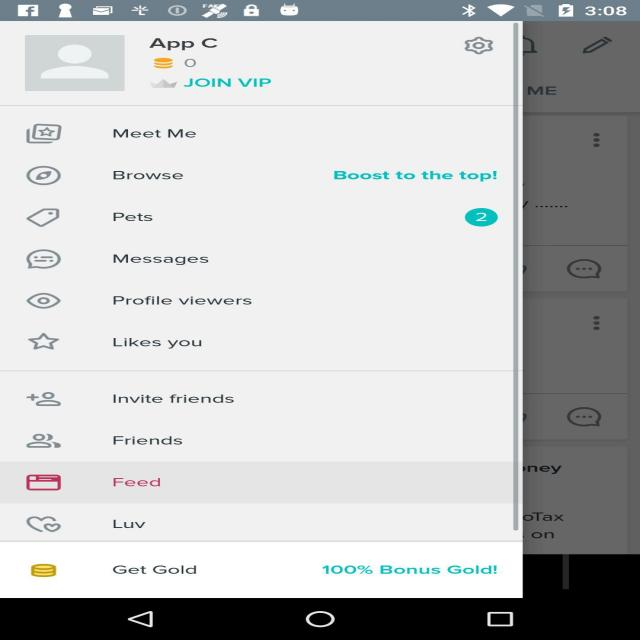icon: (0, 119, 78, 590), (464, 37, 494, 55)
image: (3, 29, 123, 89), (147, 76, 185, 90), (159, 54, 181, 72)
text: (96, 121, 228, 587), (192, 73, 295, 95), (144, 39, 241, 49), (188, 55, 198, 73)
